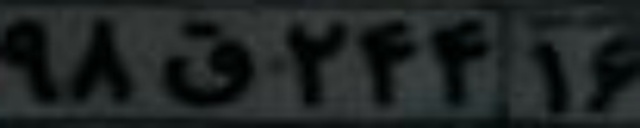1: (525, 38, 572, 114)
2: (280, 16, 352, 107)
4: (426, 14, 498, 107), (355, 14, 418, 109)
6: (581, 33, 637, 112)
8: (65, 13, 143, 105)
9: (0, 13, 61, 103)
ghaf: (152, 18, 258, 107)
